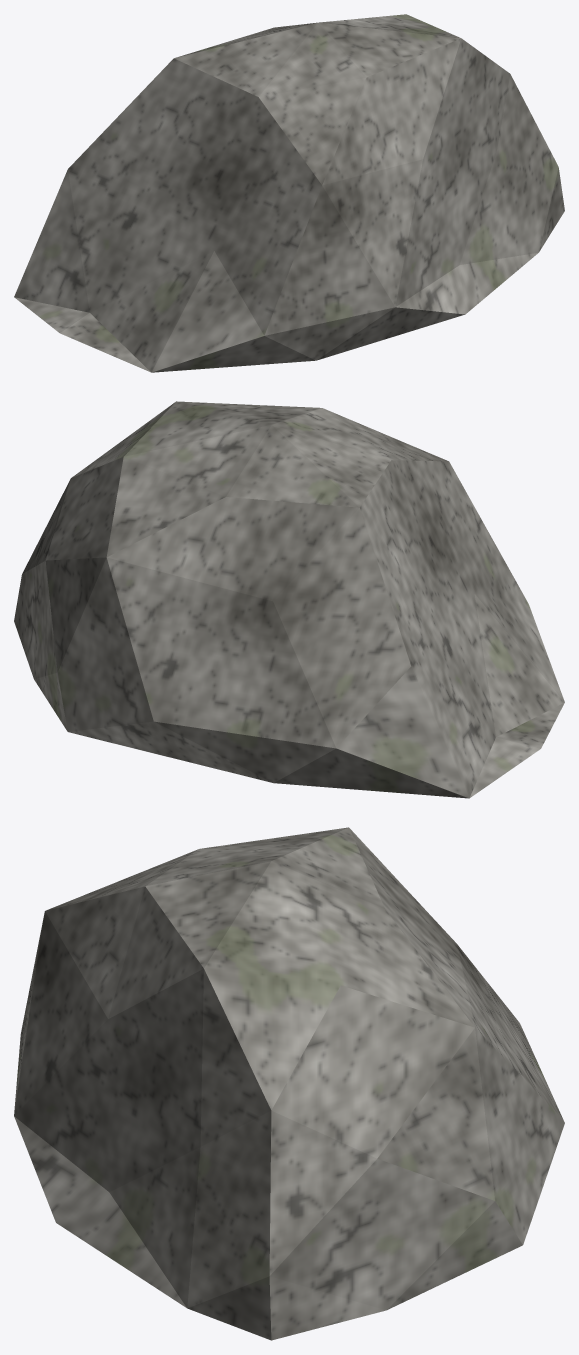
Rendered from kamen_velky.glb.
3 renders of one model, top to bottom at view 1: azimuth 30°, elevation 25°; view 2: azimuth 150°, elevation 25°; view 3: azimuth 270°, elevation 25°, orthographic. The views are drawn at different scales.
Visible parts, largest first — view 1: kamen; view 2: kamen; view 3: kamen.
Part boxes in pixels (x1=…): kamen: x1=14, y1=14, x2=564, y2=372; kamen: x1=14, y1=401, x2=564, y2=798; kamen: x1=14, y1=827, x2=564, y2=1340.
Bounding box in the file's own units: 3.3 × 1.6 × 2.4.
1 material, 1 textured.
